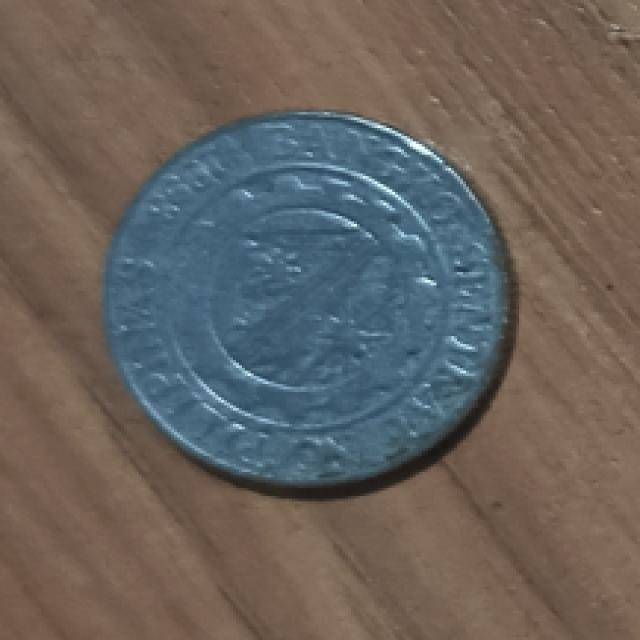1_peso: (106, 112, 507, 483)
